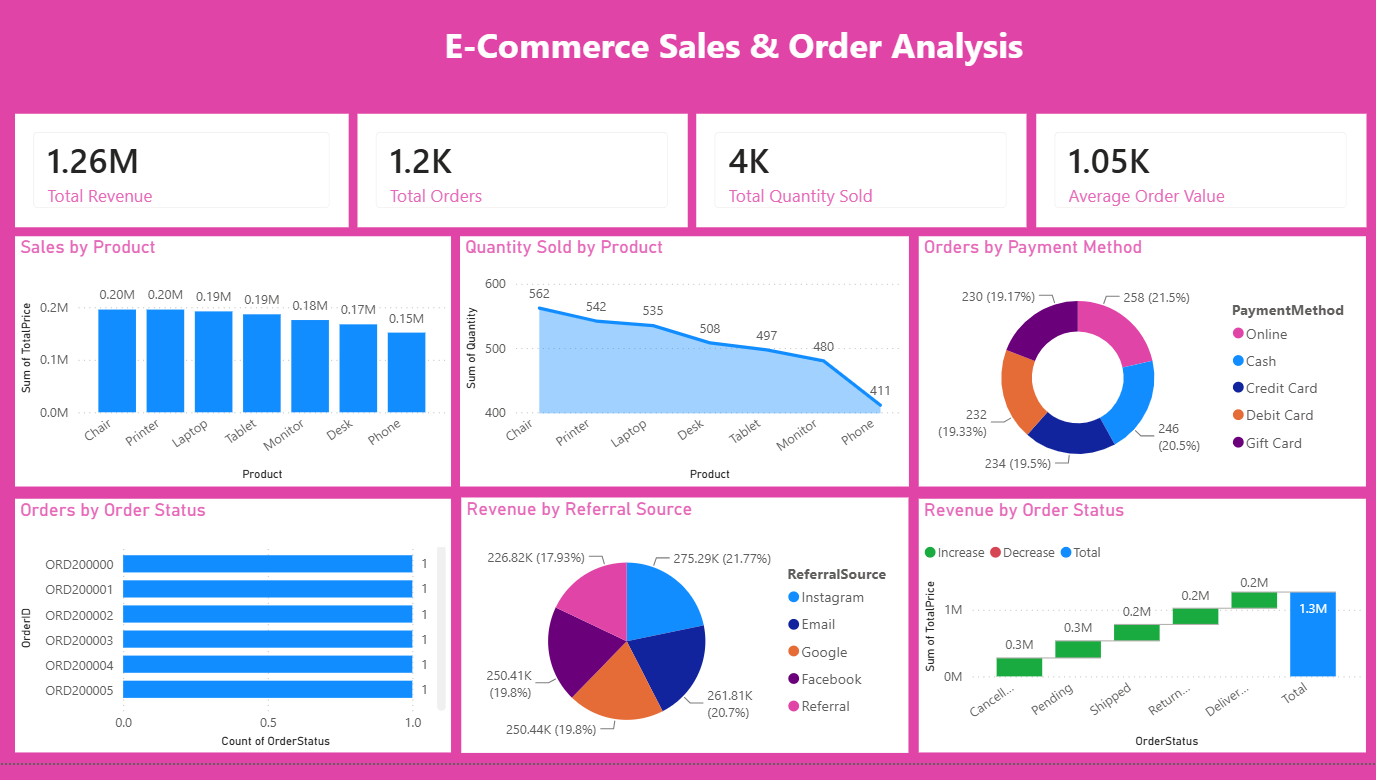

What the dashboard file says about the page in this screenshot:
{"tool":"powerbi","page":{"name":"E-Commerce Sales Overview","canvas":[1280,720],"ordinal":0},"visuals":[{"type":"clusteredColumnChart","title":"Sales by Product","fields":{"Y":["Sum(Table1.TotalPrice)"],"Category":["Table1.Product"]},"box":[14,229.1,405.8,232.6],"z":0},{"type":"areaChart","title":"Quantity  Sold by Product","fields":{"Category":["Table1.Product"],"Y":["Sum(Table1.Quantity)"]},"box":[427.9,229.1,417.4,232.6],"z":1000},{"type":"donutChart","title":"Orders by Payment Method","fields":{"Category":["Table1.PaymentMethod"],"Y":["CountNonNull(Table1.OrderID)"]},"box":[854.7,229.1,416.3,232.6],"z":2000},{"type":"textbox","box":[384.9,24.4,595.4,61.6],"z":3000},{"type":"cardVisual","fields":{"Data":["Count(Table1.OrderID)"]},"box":[332.6,115.1,307,105.8],"z":4000},{"type":"cardVisual","title":"Total Revenue","fields":{"Data":["Sum(Table1.TotalPrice)"]},"box":[14,115.1,310.5,105.8],"z":5000},{"type":"cardVisual","fields":{"Data":["Sum(Table1.Quantity)"]},"box":[647.7,115.1,307,105.8],"z":6000},{"type":"cardVisual","fields":{"Data":["Avg(Table1.TotalPrice)"]},"box":[964,115.1,307,105.8],"z":7000},{"type":"clusteredBarChart","title":"Orders by Order Status ","fields":{"Category":["Table1.OrderID"],"Y":["CountNonNull(Table1.OrderStatus)"]},"box":[14,473.3,405.8,236],"z":7002},{"type":"pieChart","title":"Revenue  by Referral Source","fields":{"Category":["Table1.ReferralSource"],"Y":["Sum(Table1.TotalPrice)"]},"box":[429.1,472.1,416.3,237.2],"z":7003},{"type":"waterfallChart","title":"Revenue by Order Status","fields":{"Category":["Table1.OrderStatus"],"Y":["Sum(Table1.TotalPrice)"]},"box":[854.7,473.3,416.3,236],"z":7004}]}

Visuals, with their boxes in screenshot pixels (x1, y1, x2, y2), scaled from the page's 1280x720 canvas onto the 1376x780 screenshot:
"Sales by Product" clusteredColumnChart: 15/248/451/500
"Quantity  Sold by Product" areaChart: 460/248/909/500
"Orders by Payment Method" donutChart: 919/248/1366/500
textbox: 414/26/1054/93
cardVisual - Count(Table1.OrderID): 358/125/688/239
"Total Revenue" cardVisual: 15/125/349/239
cardVisual - Sum(Table1.Quantity): 696/125/1026/239
cardVisual - Avg(Table1.TotalPrice): 1036/125/1366/239
"Orders by Order Status " clusteredBarChart: 15/513/451/768
"Revenue  by Referral Source" pieChart: 461/511/909/768
"Revenue by Order Status" waterfallChart: 919/513/1366/768
